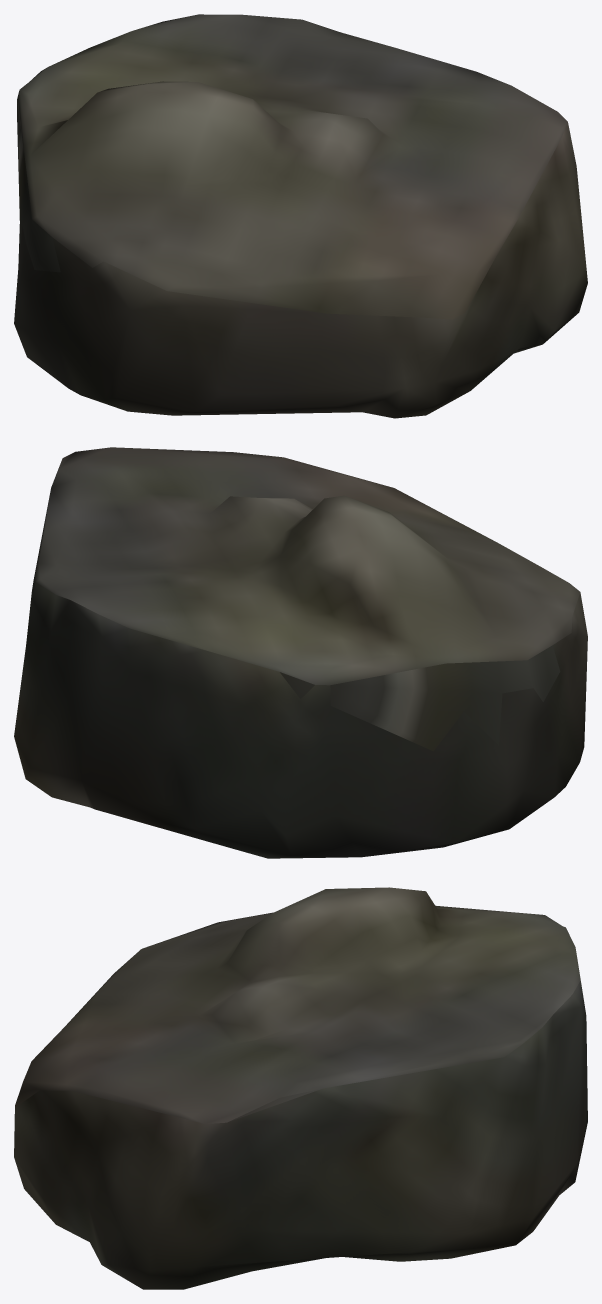
The picture shows the model from 3 angles, top to bottom: view 1: azimuth 30°, elevation 25°; view 2: azimuth 150°, elevation 25°; view 3: azimuth 270°, elevation 25°; orthographic projection. The views are drawn at different scales.
Visible parts, largest first — view 1: smallrock5; view 2: smallrock5; view 3: smallrock5.
Boxes of the visible parts, box(x1,y1,x2,y2) form: smallrock5: box(14, 14, 587, 418); smallrock5: box(14, 447, 587, 858); smallrock5: box(14, 887, 587, 1289).
Size of the model in its own units: 3.56 by 1.71 by 3.48.
Materials: 1 (1 with a texture image).
